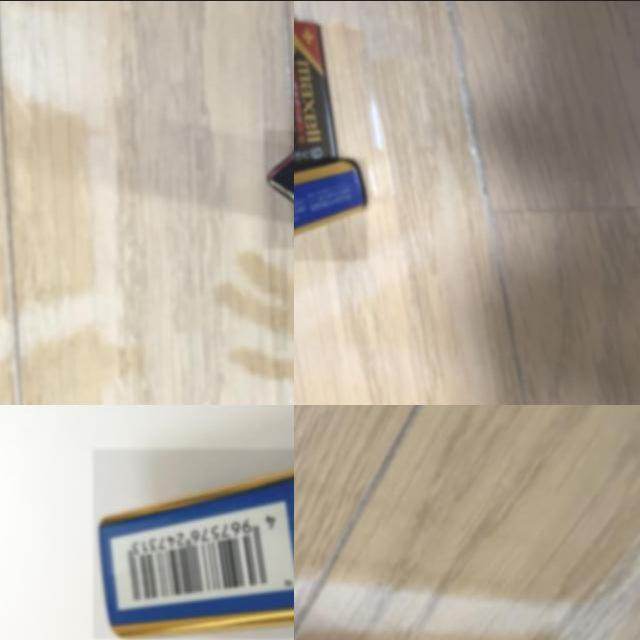9V: (93, 448, 294, 638), (294, 156, 367, 261), (294, 8, 336, 173)
